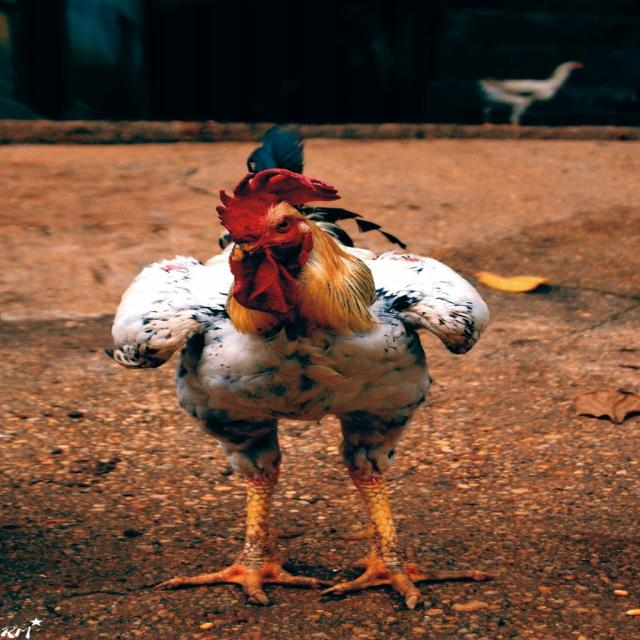Chicken: (125, 162, 486, 599), (471, 58, 590, 128)
